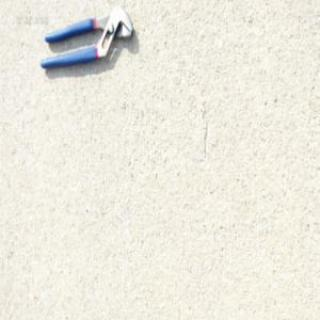Pliertrack_idkeyframe: (38, 5, 132, 69)
